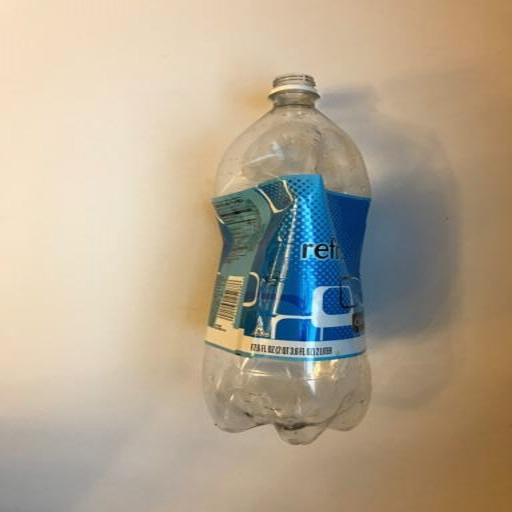Plastic_0: (209, 71, 372, 447)
